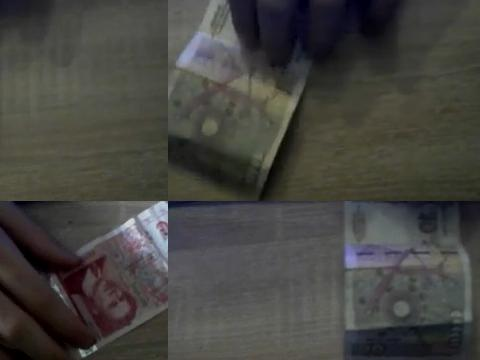10leva: (168, 0, 307, 201), (341, 201, 475, 360)
5leva: (2, 201, 168, 360)
